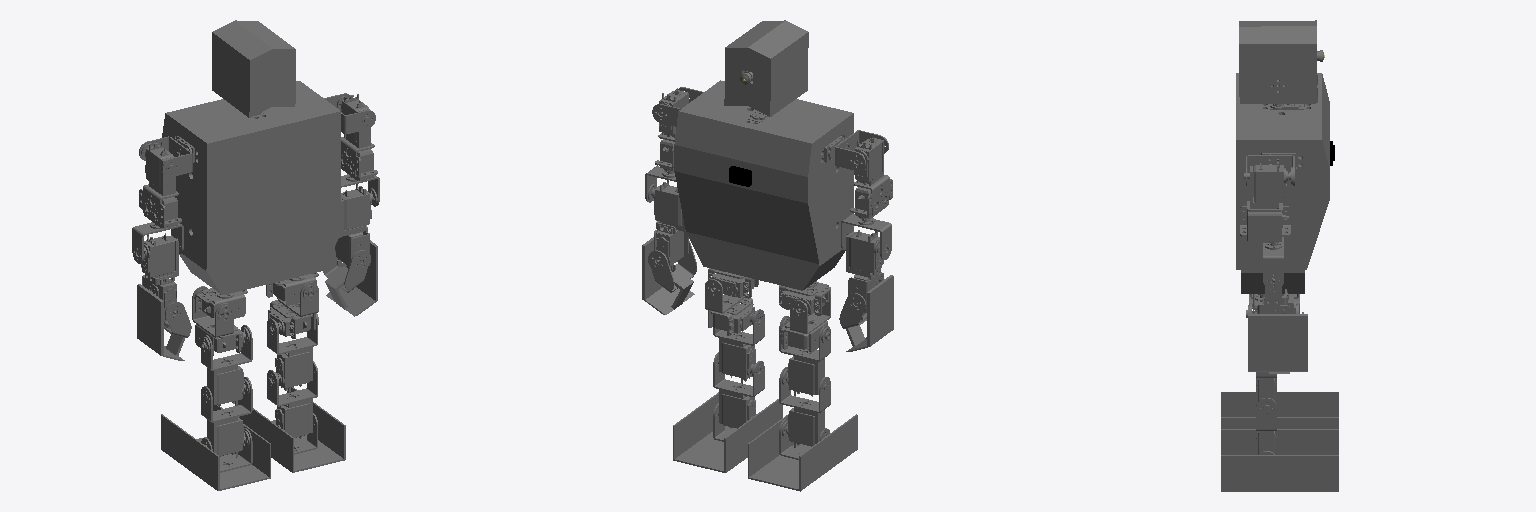
--- Render facts (derived) ---
Views: 3 orthographic renders of the robot side by side, from view 1: azimuth 30°, elevation 25°; view 2: azimuth 150°, elevation 25°; view 3: azimuth 270°, elevation 25°.
Model rmis with 50 links and 49 joints (22 revolute, 27 fixed), rooted at root, posed all joints at 0.
Visible links, largest first — view 1: base_link, head_outer_link, lower_body_link, l_lower_arm_link, l_feet_link, r_lower_arm_link, r_feet_link, l_lower_shoulder_link, r_lower_shoulder_link, r_hand_link, l_lower_leg_inner_link, r_lower_leg_inner_link (+17 smaller); view 2: base_link, head_outer_link, l_feet_link, r_feet_link, lower_body_link, l_lower_arm_link, r_lower_arm_link, l_lower_shoulder_link, r_hand_link, l_lower_leg_inner_link, l_upper_ankle_link, r_lower_leg_inner_link (+16 smaller); view 3: base_link, r_feet_link, head_outer_link, r_lower_arm_link, l_feet_link, r_lower_shoulder_link, lower_body_link, r_upper_arm_link, r_lower_leg_outer_link, r_upper_shoulder_link.
Link boxes in pixels (x1,y1,x2,y2): base_link: (162, 81, 340, 269); head_outer_link: (212, 20, 295, 117); lower_body_link: (179, 238, 338, 298); l_lower_arm_link: (137, 233, 184, 360); l_feet_link: (161, 405, 270, 490); r_lower_arm_link: (326, 184, 377, 316); r_feet_link: (235, 387, 345, 472); l_lower_shoulder_link: (139, 142, 181, 228); r_lower_shoulder_link: (337, 94, 377, 181); r_hand_link: (322, 250, 370, 309); l_lower_leg_inner_link: (204, 362, 249, 406); r_lower_leg_inner_link: (272, 345, 312, 392); base_link: (674, 80, 853, 263); head_outer_link: (724, 20, 808, 116); l_feet_link: (748, 414, 857, 491); r_feet_link: (673, 392, 782, 472); lower_body_link: (687, 232, 845, 290); l_lower_arm_link: (846, 230, 893, 351); r_lower_arm_link: (642, 180, 694, 314); l_lower_shoulder_link: (850, 136, 892, 224); r_hand_link: (648, 241, 696, 309); l_lower_leg_inner_link: (782, 352, 827, 396); l_upper_ankle_link: (782, 404, 825, 447); r_lower_leg_inner_link: (718, 336, 759, 383); base_link: (1236, 73, 1329, 269); r_feet_link: (1221, 429, 1338, 491); head_outer_link: (1239, 20, 1323, 103); r_lower_arm_link: (1248, 274, 1307, 371); l_feet_link: (1221, 392, 1338, 428); r_lower_shoulder_link: (1240, 159, 1292, 249); lower_body_link: (1241, 270, 1304, 301); r_upper_arm_link: (1263, 237, 1283, 289); r_lower_leg_outer_link: (1256, 382, 1276, 430); r_upper_shoulder_link: (1246, 155, 1294, 186).
Size in the robot's own frame: 3.24 by 1.35 by 5.47 metres.
Meshes: 34 distinct files referenced, 34 mesh visuals loaded (34 binary STL).

The robot description file, URDF, robot "rmis":
<?xml version="1.0"?>
<robot name="rmis" version="1.0">

  <!-- Material Definitions -->
  
  <!-- Dummy Link for KDL Parser -->
  <link name="root"/>
  
  <!-- Fixed Joint to Connect World to Base Link -->
  <joint name="root_to_base_joint" type="fixed">
    <parent link="root"/>
    <child link="base_link"/>
    <origin rpy="0.00000 0.00000 -0.00000" xyz="-0.15389 -0.00000 -0.00001"/>
    <dynamics damping="1.00000" friction="0.1"/>
  </joint>

  
  <!-- Sensors Section -->
  
  	<!-- Lidar -->
  <joint name="lidar_link_joint" type="fixed">
    <origin xyz="0.15210 0.54325 0.16884" rpy="0.0 0.0 0.0"/>
    <parent link="base_link"/>
    <child link="lidar_link"/>
  </joint>
  <link name="lidar_link">
    <inertial>
      <origin xyz="-1.54987 0.01466 -0.04121" rpy="0.0 0.0 0.0"/>
      <mass value="0.05000"/>
      <inertia ixx="0.05768" ixy="0.00012" ixz="-0.00062" iyy="0.02857" iyz="0.00006" izz="0.05022"/>
    </inertial>
    <visual name="lidar">
      <origin xyz="-0.15388 0.0 -0.00000" rpy="0.0 0.0 0.0"/>
      <geometry>
        <mesh filename="package://rmis/meshes/stl/TF_Luna.stl" scale="0.1 0.1 0.1"/>
      </geometry>
      <material name="black">
        <color rgba="0.0 0.0 0.0 1.0"/>
      </material>
    </visual>
    <collision name="lidar_collision">
      <origin xyz="-0.15388 0.0 -0.00001" rpy="0.0 0.0 0.0"/>
      <geometry>
        <mesh filename="package://rmis/meshes/stl/TF_Luna.stl" scale="0.1 0.1 0.1"/>
      </geometry>
    </collision>
  </link>
  <gazebo reference="lidar_link">
    <material>Gazebo/Black</material>
    <sensor name="tf_luna" type="ray">
      <pose>0.0 0.0 0.0 0.0 0.0 0.0</pose>
      <visualize>true</visualize>
      <update_rate>10</update_rate>
      <ray>
        <scan>
          <horizontal>
            <samples>100</samples>
            <resolution>0.01047</resolution>
            <min_angle>-0.52360</min_angle>
            <max_angle>0.52360</max_angle>
          </horizontal>
        </scan>
        <range>
          <min>0.2</min>
          <max>8.0</max>
          <resolution>0.01</resolution>
        </range>
      </ray>
      <plugin name="lidar_plugin" filename="libgazebo_ros_ray_sensor.so">
        <ros>
          <namespace>/rmis</namespace>
          <remapping>~/out:=lidar_scan</remapping>
        </ros>
        <frame_name>lidar_link</frame_name>
      </plugin>
    </sensor>
  </gazebo>

  	<!-- IMU -->
  <joint name="imu_link_joint" type="fixed">
    <origin xyz="0.21039 -0.34355 -1.01118" rpy="0.0 0.0 1.57080"/>
    <parent link="base_link"/>
    <child link="imu_link"/>
  </joint>
  <link name="imu_link">
    <inertial>
      <origin xyz="0.0 2.30103 0.0" rpy="0.0 0.0 0.0"/>
      <mass value="0.05000"/>
      <inertia ixx="0.03333" ixy="0.0" ixz="0.0" iyy="0.01817" iyz="0.0" izz="0.01817"/>
    </inertial>
    <visual name="imu">
      <origin xyz="0.0 0.23010 0.0" rpy="0.0 0.0 0.0"/>
      <geometry>
        <box size="0.06 0.2 0.2"/>
      </geometry>
      <material name="blue">
        <color rgba="0.0 0.0 1.0 1.0"/>
      </material>
    </visual>
    <collision name="imu_collision">
      <origin xyz="0.0 0.23010 0.0" rpy="0.0 0.0 0.0"/>
      <geometry>
        <box size="0.06 0.2 0.2"/>
      </geometry>
    </collision>
  </link>
	<gazebo reference="imu_link">
	  <sensor type="imu" name="imu_sensor">
	    <plugin name="imu_plugin" filename="libgazebo_ros_imu.so">
	      <ros>
		<namespace>/rmis</namespace>
		<remapping>imu:=imu/data</remapping>
	      </ros>
	    </plugin>
	  </sensor>
	</gazebo>
  
	<!-- Camera -->  
    <joint name="camera_link_joint" type="fixed">
    <origin xyz="-0.00027 0.51877 -0.01898" rpy="0.0 0.0 1.57080"/>
    <parent link="head_outer_link"/>
    <child link="camera_link"/>
  </joint>
  <link name="camera_link">
    <inertial>
      <inertia ixx="0.00002" ixy="-0.00000" ixz="-0.00000" iyy="0.00002" iyz="-0.00000" izz="0.00002"/>
      <origin rpy="0.00000 0.00000 0.00000" xyz="-0.03334 0.00356 -0.00558"/>
      <mass value="0.05000"/>
    </inertial>
    <visual name="camera">
      <origin rpy="-0.00000 -0.00000 -0.00000" xyz="-0.00333 0.00036 -0.00055"/>
      <geometry>
        <sphere radius="0.03000"/>
      </geometry>
    </visual>
  </link>
  <gazebo reference="camera_link">
    <material>Gazebo/Black</material>
    <sensor name="rasp_cam" type="camera">
      <pose>0.02942 0.0 0.0 -0.0 1.57080 0.0</pose>
      <camera>
        <horizontal_fov>1.57080</horizontal_fov>
        <image>
          <width>3280</width>
          <height>2464</height>
          <format>R8G8B8</format>
        </image>
        <clip>
          <near>0.01</near>
          <far>100.0</far>
        </clip>
      </camera>
      <update_rate>30</update_rate>
      <visualize>true</visualize>
      <plugin name="camera_plugin" filename="libgazebo_ros_camera.so">
        <ros>
          <namespace>/rmis</namespace>
          <remapping>~/out:=camera/image_raw</remapping>
        </ros>
        <frame_name>camera_link</frame_name>
      </plugin>
    </sensor>
  </gazebo>
  
  <!-- Base Link -->
  <link name="base_link">
    <collision name="base_collision">
      <origin rpy="0.00000 0.00000 -0.00000" xyz="-0.15389 -0.00000 -0.00001"/>
      <geometry>
        <mesh filename="package://rmis/meshes/stl/base.stl" scale="0.10000 0.10000 0.10000"/>
      </geometry>
    </collision>
    <inertial>
      <inertia ixx="3.80664" ixy="0.00010" ixz="-0.11562" iyy="2.86595" iyz="0.00147" izz="1.72824"/>
      <origin rpy="0.00000 0.00000 0.00000" xyz="-0.00284 -0.01176 0.03521"/>
      <mass value="0.05000"/>
    </inertial>
    <visual name="base">
      <origin rpy="0.00000 0.00000 0.00000" xyz="-0.15389 -0.00000 -0.00001"/>
      <geometry>
        <mesh filename="package://rmis/meshes/stl/base.stl" scale="0.10000 0.10000 0.10000"/>
      </geometry>
      <material name="grey">
        <color rgba="0.5 0.5 0.5 1.0"/>
      </material>      
    </visual>
  </link>
  <gazebo reference="base_link">
    <material>Gazebo/Grey</material>
  </gazebo>
  
  	<!-- Up Upper Body Section -->
  <joint name="u_upper_body_link_joint" type="revolute">
    <origin xyz="-0.00039 -0.01857 0.85581" rpy="0.0 0.0 0.0"/>
    <parent link="base_link"/>
    <child link="u_upper_body_link"/>
    <axis xyz="0.0 0.0 1.0"/>
    <dynamics damping="0.50000" friction="0.1"/>
    <limit lower="-3.14" upper="3.14" effort="1.2" velocity="1.0"/>
  </joint>
  <link name="u_upper_body_link">
    <inertial>
      <inertia ixx="0.00080" ixy="0.00000" ixz="0.00000" iyy="0.00080" iyz="0.00000" izz="0.00080"/>
      <origin rpy="0.00000 0.00000 0.00000" xyz="-0.00154 -0.01747 0.00000"/>
      <mass value="0.05000"/>
    </inertial>
    <visual name="u_upper_body">
      <origin rpy="0.00000 0.00000 1.57080" xyz="-0.00015 -0.00175 0.00000"/>
      <geometry>
        <sphere radius="0.02000"/>
      </geometry>
      <material name="grey">
        <color rgba="0.5 0.5 0.5 1.0"/>
      </material>      
    </visual>
  </link>
  <gazebo reference="u_upper_body_link">
    <material>Gazebo/Grey</material>
  </gazebo>

  <joint name="neck_link_joint" type="fixed">
    <origin xyz="0.29394 -0.10231 0.17455" rpy="0.0 0.0 0.0"/>
    <parent link="u_upper_body_link"/>
    <child link="neck_link"/>
  </joint>
  <link name="neck_link">
    <collision name="neck_collision">
      <origin rpy="0.00000 0.00000 -0.00000" xyz="-0.29410 0.00000 -0.04091"/>
      <geometry>
        <mesh filename="package://rmis/meshes/stl/neck_joint.stl" scale="0.10000 0.10000 0.10000"/>
      </geometry>
    </collision>
    <inertial>
      <inertia ixx="0.10411" ixy="-0.00000" ixz="0.02435" iyy="0.11152" iyz="0.00000" izz="0.04042"/>
      <origin rpy="0.00000 0.00000 0.00000" xyz="-2.94095 0.00000 -0.40906"/>
      <mass value="0.05000"/>
    </inertial>
    <visual name="neck">
      <origin rpy="0.00000 0.00000 -0.00000" xyz="-0.29410 0.00000 -0.04091"/>
      <geometry>
        <mesh filename="package://rmis/meshes/stl/neck_joint.stl" scale="0.10000 0.10000 0.10000"/>
      </geometry>
      <material name="grey"/>
    </visual>
  </link>
  <gazebo reference="neck_link">
    <material>Gazebo/Grey</material>
  </gazebo>
  
    <joint name="head_inner_link_joint" type="revolute">
    <origin xyz="-0.53928 0.10308 0.14213" rpy="-1.57080 -1.57080 1.57080"/>
    <parent link="neck_link"/>
    <child link="head_inner_link"/>
    <axis xyz="0.0 0.0 1.0"/>
    <dynamics damping="0.50000" friction="0.1"/>
    <limit lower="-0.4" upper="0.4" effort="1.2" velocity="1.0"/>
  </joint>
  <link name="head_inner_link">
    <inertial>
      <inertia ixx="0.18266" ixy="0.01279" ixz="0.00147" iyy="0.09287" iyz="0.00504" izz="0.14329"/>
      <origin rpy="0.00000 0.00000 0.00000" xyz="0.86758 -0.32559 -2.66080"/>
      <mass value="0.05000"/>
    </inertial>
    <visual name="head_inner">
      <origin rpy="1.57080 1.57080 1.57080" xyz="0.10230 0.02942 -0.18450"/>
      <geometry>
        <mesh filename="package://rmis/meshes/stl/head_link.stl" scale="0.10000 0.10000 0.10000"/>
      </geometry>
      <material name="grey"/>
    </visual>
  </link>
  <gazebo reference="head_inner_link">
    <material>Gazebo/Grey</material>
  </gazebo>

  <joint name="head_outer_link_joint" type="fixed">
    <origin xyz="0.24166 -0.01105 -0.24237" rpy="1.57080 1.57080 1.57080"/>
    <parent link="head_inner_link"/>
    <child link="head_outer_link"/>
  </joint>
  <link name="head_outer_link">
    <collision name="head_outer_collision">
      <origin rpy="-0.00000 0.00000 -0.00000" xyz="0.00000 0.00000 -0.00000"/>
      <geometry>
        <mesh filename="package://rmis/meshes/stl/head_joint.stl" scale="0.10000 0.10000 0.10000"/>
      </geometry>
    </collision>
    <inertial>
      <inertia ixx="0.35611" ixy="0.08645" ixz="0.03018" iyy="1.36268" iyz="-0.00299" izz="1.33173"/>
      <origin rpy="0.00000 0.00000 0.00000" xyz="0.00015 0.13850 -0.00540"/>
      <mass value="0.05000"/>
    </inertial>
    <visual name="head_outer">
      <origin rpy="0.00000 0.00000 -0.00000" xyz="0.00000 0.00000 0.00000"/>
      <geometry>
        <mesh filename="package://rmis/meshes/stl/head_joint.stl" scale="0.10000 0.10000 0.10000"/>
      </geometry>
      <material name="grey"/>
    </visual>
  </link>
  <gazebo reference="head_outer_link">
    <material>Gazebo/Grey</material>
  </gazebo>
  
  	<!-- Right Upper Body -->
  <joint name="r_upper_body_link_joint" type="revolute">
    <origin xyz="1.02542 -0.10845 0.50152" rpy="0.0 1.57080 0.0"/>
    <parent link="base_link"/>
    <child link="r_upper_body_link"/>
    <axis xyz="0.0 0.0 1.0"/>
    <dynamics damping="0.50000" friction="0.1"/>
    <limit lower="-2.0" upper="2.0" effort="1.2" velocity="1.0"/>
  </joint>
  <link name="r_upper_body_link">
    <inertial>
      <inertia ixx="0.00080" ixy="-0.00000" ixz="-0.00000" iyy="0.00080" iyz="0.00000" izz="0.00080"/>
      <origin rpy="0.00000 0.00000 0.00000" xyz="0.00000 0.00000 -0.00001"/>
      <mass value="0.05000"/>
    </inertial>
    <visual name="r_upper_body">
      <origin rpy="-1.57080 -0.00000 1.57080" xyz="0.00000 0.00000 -0.00000"/>
      <geometry>
        <sphere radius="0.02000"/>
      </geometry>
      <material name="grey"/>
    </visual>
  </link>
  <gazebo reference="r_upper_body_link">
    <material>Gazebo/Grey</material>
  </gazebo>
  
    <joint name="r_upper_shoulder_link_joint" type="fixed">
      <origin xyz="-0.00313 0.00023 0.15034" rpy="-1.57080 -1.57080 1.57080"/>
      <parent link="r_upper_body_link"/>
      <child link="r_upper_shoulder_link"/>
    </joint>
  <link name="r_upper_shoulder_link">
    <collision name="r_upper_shoulder_collision">
      <origin rpy="0.00000 0.00000 -0.00000" xyz="-0.03319 -0.00117 0.00022"/>
      <geometry>
        <mesh filename="package://rmis/meshes/stl/r_shoulder_joint.stl" scale="0.10000 0.10000 0.10000"/>
      </geometry>
    </collision>
    <inertial>
      <inertia ixx="0.07973" ixy="0.00003" ixz="0.00000" iyy="0.18690" iyz="0.00000" izz="0.23547"/>
      <origin rpy="0.00000 0.00000 0.00000" xyz="-0.33190 -0.01173 0.00218"/>
      <mass value="0.05000"/>
    </inertial>
    <visual name="r_upper_shoulder">
      <origin rpy="0.00000 0.00000 0.00000" xyz="-0.03319 -0.00117 0.00022"/>
      <geometry>
        <mesh filename="package://rmis/meshes/stl/r_shoulder_joint.stl" scale="0.10000 0.10000 0.10000"/>
      </geometry>
      <material name="grey"/>
    </visual>
  </link>
    <gazebo reference="r_upper_shoulder_link">
      <material>Gazebo/Grey</material>
    </gazebo>

  <joint name="r_lower_shoulder_upper_link_joint" type="revolute">
    <dynamics damping="0.50000"/>
    <limit lower="-1.57000" upper="0.00000" effort="1.20000" velocity="1.00000"/>
    <origin rpy="-1.57080 0.00000 0.00000" xyz="0.14724 0.25015 -0.00175"/>
    <parent link="r_upper_shoulder_link"/>
    <child link="r_lower_shoulder_upper_link"/>
    <axis xyz="0.00000 0.00000 1.00000"/>
  </joint>
  <link name="r_lower_shoulder_upper_link">
    <inertial>
      <inertia ixx="0.00080" ixy="-0.00000" ixz="-0.00000" iyy="0.00080" iyz="-0.00000" izz="0.00080"/>
      <origin rpy="0.00000 0.00000 0.00000" xyz="0.00000 -0.00000 0.00000"/>
      <mass value="0.05000"/>
    </inertial>
    <visual name="r_lower_shoulder_upper">
      <origin rpy="1.33478 -1.57080 0.23602" xyz="0.00000 -0.00000 0.00000"/>
      <geometry>
        <sphere radius="0.02000"/>
      </geometry>
      <material name="grey"/>
    </visual>
  </link>
    <gazebo reference="r_lower_shoulder_upper_link">
      <material>Gazebo/Grey</material>
    </gazebo>

    <joint name="r_lower_shoulder_link_joint" type="fixed">
      <origin rpy="1.57080 0.00000 0.00000" xyz="0.01117 0.47331 -0.27353"/>
      <parent link="r_lower_shoulder_upper_link"/>
      <child link="r_lower_shoulder_link"/>
    </joint>
  <link name="r_lower_shoulder_link">
    <collision name="r_lower_shoulder_collision">
      <origin rpy="-0.00000 -0.00000 -0.00000" xyz="-0.00000 -0.00000 0.12556"/>
      <geometry>
        <mesh filename="package://rmis/meshes/stl/r_shoulder_link.stl" scale="0.10000 0.10000 0.10000"/>
      </geometry>
    </collision>
    <inertial>
      <inertia ixx="0.39984" ixy="-0.00420" ixz="-0.00292" iyy="0.46703" iyz="0.02155" izz="0.10487"/>
      <origin rpy="0.00000 0.00000 0.00000" xyz="-0.24446 -0.09093 0.87699"/>
      <mass value="0.05000"/>
    </inertial>
    <visual name="r_lower_shoulder">
      <origin rpy="-0.00000 0.00000 0.00000" xyz="-0.00000 0.00000 0.12556"/>
      <geometry>
        <mesh filename="package://rmis/meshes/stl/r_shoulder_link.stl" scale="0.10000 0.10000 0.10000"/>
      </geometry>
      <material name="grey"/>
    </visual>
  </link>
    <gazebo reference="r_lower_shoulder_link">
      <material>Gazebo/Grey</material>
    </gazebo>

  <joint name="r_lower_shoulder_lower_link_joint" type="revolute">
    <dynamics damping="0.50000"/>
    <limit lower="-1.57000" upper="1.57000" effort="1.20000" velocity="1.00000"/>
    <origin rpy="-3.14159 -0.00000 3.14159" xyz="-0.00476 0.06341 -0.39192"/>
    <parent link="r_lower_shoulder_link"/>
    <child link="r_lower_shoulder_lower_link"/>
    <axis xyz="0.00000 0.00000 1.00000"/>
  </joint>
  <link name="r_lower_shoulder_lower_link">
    <inertial>
      <inertia ixx="0.00080" ixy="0.00000" ixz="0.00000" iyy="0.00080" iyz="-0.00000" izz="0.00080"/>
      <origin rpy="0.00000 0.00000 0.00000" xyz="0.00000 0.00000 -0.00000"/>
      <mass value="0.05000"/>
    </inertial>
    <visual name="r_lower_shoulder_lower">
      <origin rpy="3.14159 0.00000 1.57080" xyz="-0.00000 -0.00000 -0.00000"/>
      <geometry>
        <sphere radius="0.02000"/>
      </geometry>
      <material name="grey"/>
    </visual>
  </link>
    <gazebo reference="r_lower_shoulder_lower_link">
      <material>Gazebo/Grey</material>
    </gazebo>

  <joint name="r_upper_arm_link_joint" type="fixed">
    <origin rpy="-3.14159 0.00000 3.14159" xyz="0.15365 -0.04003 0.13018"/>
    <parent link="r_lower_shoulder_lower_link"/>
    <child link="r_upper_arm_link"/>
  </joint>
  <link name="r_upper_arm_link">
    <collision name="r_upper_arm_collision">
      <origin rpy="0.00000 -0.00000 -0.00000" xyz="0.15373 0.03945 -0.00418"/>
      <geometry>
        <mesh filename="package://rmis/meshes/stl/r_arm_joint.stl" scale="0.10000 0.10000 0.10000"/>
      </geometry>
    </collision>
    <inertial>
      <inertia ixx="0.23547" ixy="-0.00000" ixz="-0.00000" iyy="0.07973" iyz="0.00003" izz="0.18690"/>
      <origin rpy="0.00000 0.00000 0.00000" xyz="1.53731 0.39454 -0.04178"/>
      <mass value="0.05000"/>
    </inertial>
    <visual name="r_upper_arm">
      <origin rpy="0.00000 -0.00000 -0.00000" xyz="0.15373 0.03945 -0.00418"/>
      <geometry>
        <mesh filename="package://rmis/meshes/stl/r_arm_joint.stl" scale="0.10000 0.10000 0.10000"/>
      </geometry>
      <material name="grey"/>
    </visual>
  </link>
    <gazebo reference="r_upper_arm_link">
      <material>Gazebo/Grey</material>
    </gazebo>

    <joint name="r_lower_arm_upper_link_joint" type="revolute">
      <origin rpy="0.00000 1.57080 0.00000" xyz="0.42891 0.03944 -0.18506"/>
    <parent link="r_upper_arm_link"/>
    <child link="r_lower_arm_upper_link"/>
      <axis xyz="0.0 0.0 1.0"/>
      <dynamics damping="0.50000" friction="0.1"/>
      <limit lower="-1.57" upper="1.57" effort="1.2" velocity="1.0"/>
    </joint>
  <link name="r_lower_arm_upper_link">
    <inertial>
      <inertia ixx="0.00080" ixy="0.00000" ixz="-0.00000" iyy="0.00080" iyz="-0.00000" izz="0.00080"/>
      <origin rpy="0.00000 0.00000 0.00000" xyz="-0.00000 0.00000 -0.00001"/>
      <mass value="0.05000"/>
    </inertial>
    <visual name="r_lower_arm_upper">
      <origin rpy="-1.57080 0.00000 1.57080" xyz="-0.00000 0.00000 -0.00000"/>
      <geometry>
        <sphere radius="0.02000"/>
      </geometry>
      <material name="grey"/>
    </visual>
  </link>
    <gazebo reference="r_lower_arm_upper_link">
      <material>Gazebo/Grey</material>
    </gazebo>
    
    <joint name="r_lower_arm_link_joint" type="fixed">
      <origin rpy="-1.57080 -1.57080 1.57080" xyz="0.57212 0.03274 -0.28788"/>
      <parent link="r_lower_arm_upper_link"/>
      <child link="r_lower_arm_link"/>
    </joint>
  <link name="r_lower_arm_link">
    <collision name="r_lower_arm_collision">
      <origin rpy="-0.00000 0.00000 -0.00000" xyz="0.04329 0.00000 0.00000"/>
      <geometry>
        <mesh filename="package://rmis/meshes/stl/r_arm_link.stl" scale="0.10000 0.10000 0.10000"/>
      </geometry>
    </collision>
    <inertial>
      <inertia ixx="1.02059" ixy="0.01519" ixz="-0.00666" iyy="1.05629" iyz="0.04688" izz="0.16236"/>
      <origin rpy="0.00000 0.00000 0.00000" xyz="0.43294 0.00008 -0.00044"/>
      <mass value="0.05000"/>
    </inertial>
    <visual name="r_lower_arm">
      <origin rpy="-0.00000 0.00000 -0.00000" xyz="0.04329 0.00000 0.00000"/>
      <geometry>
        <mesh filename="package://rmis/meshes/stl/r_arm_link.stl" scale="0.10000 0.10000 0.10000"/>
      </geometry>
      <material name="grey"/>
    </visual>
  </link>
    <gazebo reference="r_lower_arm_link">
      <material>Gazebo/Grey</material>
    </gazebo>    

    <joint name="r_lower_arm_lower_link_joint" type="revolute">
      <origin rpy="-1.57080 -0.00000 0.00000" xyz="-0.00892 0.31225 -0.11501"/>
      <parent link="r_lower_arm_link"/>
      <child link="r_lower_arm_lower_link"/>
      <axis xyz="0.0 0.0 1.0"/>
      <dynamics damping="0.50000" friction="0.1"/>
      <limit lower="0.00000" upper="0.65000" effort="1.20000" velocity="1.00000"/> 
    </joint>
  <link name="r_lower_arm_lower_link">
    <inertial>
      <inertia ixx="0.00080" ixy="0.00000" ixz="0.00000" iyy="0.00080" iyz="0.00000" izz="0.00080"/>
      <origin rpy="0.00000 0.00000 0.00000" xyz="0.00002 -0.00003 -0.00000"/>
      <mass value="0.05000"/>
    </inertial>
    <visual name="r_lower_arm_lower">
      <origin rpy="-1.24662 -1.57080 2.81742" xyz="0.00000 -0.00000 -0.00000"/>
      <geometry>
        <sphere radius="0.02000"/>
      </geometry>
      <material name="grey"/>
    </visual>
  </link>
    <gazebo reference="r_lower_arm_lower_link">
      <material>Gazebo/Grey</material>
    </gazebo>

    <joint name="r_hand_link_joint" type="fixed">
      <origin rpy="1.57080 -0.00000 -0.00000" xyz="-0.09662 0.29431 -0.27653"/>
      <parent link="r_lower_arm_lower_link"/>
      <child link="r_hand_link"/>
    </joint>
  <link name="r_hand_link">
    <collision name="r_hand_collision">
      <origin rpy="0.00000 -0.00000 -0.00000" xyz="0.00010 -0.00004 0.00060"/>
      <geometry>
        <mesh filename="package://rmis/meshes/stl/r_hand_joint.stl" scale="0.10000 0.10000 0.10000"/>
      </geometry>
    </collision>
    <inertial>
      <inertia ixx="0.21883" ixy="-0.00005" ixz="0.00033" iyy="0.31074" iyz="0.05939" izz="0.16883"/>
      <origin rpy="0.00000 0.00000 0.00000" xyz="0.00003 0.00000 -0.00000"/>
      <mass value="0.05000"/>
    </inertial>
    <visual name="r_hand">
      <origin rpy="-0.00000 -0.00000 0.00000" xyz="0.00000 0.00000 -0.00001"/>
      <geometry>
        <mesh filename="package://rmis/meshes/stl/r_hand_joint.stl" scale="0.10000 0.10000 0.10000"/>
      </geometry>
      <material name="grey"/>
    </visual>
  </link>
    <gazebo reference="r_hand_link">
      <material>Gazebo/Grey</material>
    </gazebo>
   
  	<!-- Left Upper Body -->
  <joint name="l_upper_body_link_joint" type="revolute">
    <origin rpy="0.00000 -1.57080 0.00000" xyz="-1.02542 -0.10845 0.50152"/>
    <parent link="base_link"/>
    <child link="l_upper_body_link"/>
    <axis xyz="0.0 0.0 1.0"/>
    <dynamics damping="0.50000" friction="0.1"/>
    <limit lower="-2.0" upper="2.0" effort="1.2" velocity="1.0"/>
  </joint>
  <link name="l_upper_body_link">
    <inertial>
      <inertia ixx="0.00080" ixy="0.00000" ixz="-0.00000" iyy="0.00080" iyz="-0.00000" izz="0.00080"/>
      <origin rpy="0.00000 0.00000 0.00000" xyz="0.00000 0.00000 -0.00000"/>
      <mass value="0.05000"/>
    </inertial>
    <visual name="l_upper_body">
      <origin rpy="1.57080 0.00000 1.57080" xyz="-0.00000 0.00000 -0.00000"/>
      <geometry>
        <sphere radius="0.02000"/>
      </geometry>
      <material name="grey"/>
    </visual>
  </link>
  <gazebo reference="l_upper_body_link">
    <material>Gazebo/Grey</material>
  </gazebo>

    <joint name="l_upper_shoulder_link_joint" type="fixed">
      <origin rpy="1.64773 1.57080 1.64773" xyz="0.00314 0.00023 0.15035"/>
      <parent link="l_upper_body_link"/>
      <child link="l_upper_shoulder_link"/>
    </joint>
  <link name="l_upper_shoulder_link">
    <collision name="l_upper_shoulder_collision">
      <origin rpy="-0.00000 -0.00000 -0.00000" xyz="0.02125 -0.00108 -0.00165"/>
      <geometry>
        <mesh filename="package://rmis/meshes/stl/l_shoulder_joint.stl" scale="0.10000 0.10000 0.10000"/>
      </geometry>
    </collision>
    <inertial>
      <inertia ixx="0.07973" ixy="0.00003" ixz="0.00000" iyy="0.18690" iyz="-0.00000" izz="0.23547"/>
      <origin rpy="0.00000 0.00000 0.00000" xyz="0.21242 -0.01084 -0.01650"/>
      <mass value="0.05000"/>
    </inertial>
    <visual name="l_upper_shoulder">
      <origin rpy="-0.00000 0.00000 0.00000" xyz="0.02124 -0.00108 -0.00165"/>
      <geometry>
        <mesh filename="package://rmis/meshes/stl/l_shoulder_joint.stl" scale="0.10000 0.10000 0.10000"/>
      </geometry>
      <material name="grey"/>
    </visual>
  </link>
    <gazebo reference="l_upper_shoulder_link">
      <material>Gazebo/Grey</material>
    </gazebo>

    <joint name="l_lower_shoulder_upper_link_joint" type="revolute">
      <origin rpy="-1.57080 0.00000 -0.00000" xyz="-0.15786 0.25015 0.00000"/>
      <parent link="l_upper_shoulder_link"/>
      <child link="l_lower_shoulder_upper_link"/>
      <axis xyz="0.0 0.0 1.0"/>
      <dynamics damping="0.50000" friction="0.1"/>
      <limit lower="0.0" upper="1.57" effort="1.2" velocity="1.0"/>
    </joint>
  <link name="l_lower_shoulder_upper_link">
    <inertial>
      <inertia ixx="0.00080" ixy="0.00000" ixz="-0.00000" iyy="0.00080" iyz="-0.00000" izz="0.00080"/>
      <origin rpy="0.00000 0.00000 0.00000" xyz="0.00004 -0.00008 -0.00000"/>
      <mass value="0.05000"/>
    </inertial>
    <visual name="l_lower_shoulder_upper">
      <origin rpy="1.20089 -1.57080 0.36990" xyz="0.00000 -0.00000 -0.00000"/>
      <geometry>
        <sphere radius="0.02000"/>
      </geometry>
      <material name="grey"/>
    </visual>
  </link>
    <gazebo reference="l_lower_shoulder_upper_link">
      <material>Gazebo/Grey</material>
    </gazebo>

    <joint name="l_lower_shoulder_link_joint" type="fixed">
      <origin rpy="1.57080 -0.00000 -0.00000" xyz="0.01024 0.62216 -0.27345"/>
      <parent link="l_lower_shoulder_upper_link"/>
      <child link="l_lower_shoulder_link"/>
    </joint>
  <link name="l_lower_shoulder_link">
    <collision name="l_lower_shoulder_collision">
      <origin rpy="-0.00000 0.00000 -0.00000" xyz="0.00000 -0.00000 0.27292"/>
      <geometry>
        <mesh filename="package://rmis/meshes/stl/l_shoulder_link.stl" scale="0.10000 0.10000 0.10000"/>
      </geometry>
    </collision>
    <inertial>
      <inertia ixx="0.39919" ixy="-0.00420" ixz="-0.00291" iyy="0.46649" iyz="0.02087" izz="0.10478"/>
      <origin rpy="0.00000 0.00000 0.00000" xyz="-0.24312 -0.09091 2.35092"/>
      <mass value="0.05000"/>
    </inertial>
    <visual name="l_lower_shoulder">
      <origin rpy="-0.00000 0.00000 0.00000" xyz="0.00000 -0.00000 0.27291"/>
      <geometry>
        <mesh filename="package://rmis/meshes/stl/l_shoulder_link.stl" scale="0.10000 0.10000 0.10000"/>
      </geometry>
      <material name="grey"/>
    </visual>
  </link>
    <gazebo reference="l_lower_shoulder_link">
      <material>Gazebo/Grey</material>
    </gazebo>

    <joint name="l_lower_shoulder_lower_link_joint" type="revolute">
      <limit lower="-1.57000" upper="1.57000" effort="1.20000" velocity="1.00000"/>
      <origin rpy="-3.14159 -0.00000 3.14159" xyz="-0.00763 0.06271 -0.24482"/>
      <parent link="l_lower_shoulder_link"/>
      <child link="l_lower_shoulder_lower_link"/>
      <axis xyz="0.00000 0.00000 1.00000"/>
      <dynamics damping="0.50000" friction="0.1"/>
    </joint>
  <link name="l_lower_shoulder_lower_link">
    <inertial>
      <inertia ixx="0.00080" ixy="0.00000" ixz="0.00000" iyy="0.00080" iyz="0.00000" izz="0.00080"/>
      <origin rpy="0.00000 0.00000 0.00000" xyz="-0.00000 -0.00000 0.00000"/>
      <mass value="0.05000"/>
    </inertial>
    <visual name="l_lower_shoulder_lower">
      <origin rpy="3.14159 0.00000 1.57080" xyz="-0.00000 -0.00000 -0.00000"/>
      <geometry>
        <sphere radius="0.02000"/>
      </geometry>
      <material name="grey"/>
    </visual>
  </link>
    <gazebo reference="l_lower_shoulder_lower_link">
      <material>Gazebo/Grey</material>
    </gazebo>

    <joint name="l_upper_arm_link_joint" type="fixed">
      <origin rpy="3.14159 0.00000 1.57080" xyz="-0.15525 0.00109 0.04879"/>
      <parent link="l_lower_shoulder_lower_link"/>
     <child link="l_upper_arm_link"/>
    </joint>
  <link name="l_upper_arm_link">
    <collision name="l_upper_arm_collision">
      <origin rpy="-0.00000 -0.00000 -1.57080" xyz="0.00047 0.15536 -0.08502"/>
      <geometry>
        <mesh filename="package://rmis/meshes/stl/l_arm_joint.stl" scale="0.10000 0.10000 0.10000"/>
      </geometry>
    </collision>
    <inertial>
      <inertia ixx="0.23547" ixy="0.00000" ixz="-0.00000" iyy="0.07973" iyz="-0.00003" izz="0.18690"/>
      <origin rpy="0.00000 0.00000 0.00000" xyz="0.00474 1.55361 -0.85025"/>
      <mass value="0.05000"/>
    </inertial>
    <visual name="l_upper_arm">
      <origin rpy="-0.00000 0.00000 -1.57080" xyz="0.00047 0.15536 -0.08502"/>
      <geometry>
        <mesh filename="package://rmis/meshes/stl/l_arm_joint.stl" scale="0.10000 0.10000 0.10000"/>
      </geometry>
      <material name="grey"/>
    </visual>
  </link>
    <gazebo reference="l_upper_arm_link">
      <material>Gazebo/Grey</material>
    </gazebo>

    <joint name="l_lower_arm_upper_link_joint" type="revolute">
      <origin rpy="-1.57080 -1.57080 0.00000" xyz="0.00000 0.40875 -0.26539"/>
      <parent link="l_upper_arm_link"/>
      <child link="l_lower_arm_upper_link"/>
      <axis xyz="0.0 0.0 1.0"/>
      <dynamics damping="0.50000" friction="0.1"/>
      <limit lower="-1.57" upper="1.57" effort="1.2" velocity="1.0"/>
    </joint>
  <link name="l_lower_arm_upper_link">
    <inertial>
      <inertia ixx="0.00080" ixy="-0.00000" ixz="-0.00000" iyy="0.00080" iyz="-0.00000" izz="0.00080"/>
      <origin rpy="0.00000 0.00000 0.00000" xyz="0.00000 -0.00000 -0.00005"/>
      <mass value="0.05000"/>
    </inertial>
    <visual name="l_lower_arm_upper">
      <origin rpy="1.57080 0.00000 1.57080" xyz="0.00000 -0.00000 -0.00000"/>
      <geometry>
        <sphere radius="0.02000"/>
      </geometry>
      <material name="grey"/>
    </visual>
  </link>
    <gazebo reference="l_lower_arm_upper_link">
      <material>Gazebo/Grey</material>
    </gazebo>
    
    <joint name="l_lower_arm_link_joint" type="fixed">
      <origin rpy="1.57080 1.57080 1.57080" xyz="-0.51082 -0.04756 -0.25313"/>
      <parent link="l_lower_arm_upper_link"/>
      <child link="l_lower_arm_link"/>
    </joint>
  <link name="l_lower_arm_link">
    <collision name="l_lower_arm_collision">
      <origin rpy="-0.00000 -0.00000 0.00000" xyz="-0.02780 -0.00000 -0.03897"/>
      <geometry>
        <mesh filename="package://rmis/meshes/stl/l_arm_link.stl" scale="0.10000 0.10000 0.10000"/>
      </geometry>
    </collision>
    <inertial>
      <inertia ixx="0.94985" ixy="0.01403" ixz="-0.02205" iyy="0.96144" iyz="-0.03505" izz="0.14266"/>
      <origin rpy="0.00000 0.00000 0.00000" xyz="-0.27813 -0.00006 -0.39048"/>
      <mass value="0.05000"/>
    </inertial>
    <visual name="l_lower_arm">
      <origin rpy="-0.00000 0.00000 0.00000" xyz="-0.02780 0.00000 -0.03897"/>
      <geometry>
        <mesh filename="package://rmis/meshes/stl/l_arm_link.stl" scale="0.10000 0.10000 0.10000"/>
      </geometry>
      <material name="grey"/>
    </visual>
  </link>
    <gazebo reference="l_lower_arm_link">
      <material>Gazebo/Grey</material>
    </gazebo>    

    <joint name="l_lower_arm_lower_link_joint" type="revolute">
      <limit lower="0.00000" upper="0.65000" effort="1.20000" velocity="1.00000"/>
      <origin rpy="1.57080 -0.00000 0.00000" xyz="0.02708 -0.30471 -0.17737"/>
      <parent link="l_lower_arm_link"/>
      <child link="l_lower_arm_lower_link"/>
      <axis xyz="0.00000 0.00000 1.00000"/>
      <dynamics damping="0.50000" friction="0.1"/>
    </joint>
  <link name="l_lower_arm_lower_link">
    <inertial>
      <inertia ixx="0.00080" ixy="0.00000" ixz="-0.00000" iyy="0.00080" iyz="-0.00000" izz="0.00080"/>
      <origin rpy="0.00000 0.00000 0.00000" xyz="0.00005 0.00000 -0.00000"/>
      <mass value="0.05000"/>
    </inertial>
    <visual name="l_lower_arm_lower">
      <origin rpy="-1.20089 1.57080 0.36990" xyz="0.00000 -0.00000 -0.00000"/>
      <geometry>
        <sphere radius="0.02000"/>
      </geometry>
      <material name="grey"/>
    </visual>
  </link>
    <gazebo reference="l_lower_arm_lower_link">
      <material>Gazebo/Grey</material>
    </gazebo>

    <joint name="l_hand_link_joint" type="fixed">
      <origin rpy="-1.57080 0.00000 -0.00000" xyz="0.08578 -0.25941 -0.27318"/>
      <parent link="l_lower_arm_lower_link"/>
      <child link="l_hand_link"/>
    </joint>
  <link name="l_hand_link">
    <collision name="l_hand_collision">
      <origin rpy="0.00000 -0.00000 -0.00000" xyz="0.00000 -0.00000 -0.00000"/>
      <geometry>
        <mesh filename="package://rmis/meshes/stl/l_hand_joint.stl" scale="0.10000 0.10000 0.10000"/>
      </geometry>
    </collision>
    <inertial>
      <inertia ixx="0.21883" ixy="-0.00006" ixz="-0.00033" iyy="0.30895" iyz="-0.06146" izz="0.17061"/>
      <origin rpy="0.00000 0.00000 0.00000" xyz="0.14961 -0.00247 -0.33393"/>
      <mass value="0.05000"/>
    </inertial>
    <visual name="l_hand">
      <origin rpy="0.00000 -0.00000 0.00000" xyz="-0.00000 -0.00000 -0.00000"/>
      <geometry>
        <mesh filename="package://rmis/meshes/stl/l_hand_joint.stl" scale="0.10000 0.10000 0.10000"/>
      </geometry>
      <material name="grey"/>
    </visual>
  </link>
    <gazebo reference="l_hand_link">
      <material>Gazebo/Grey</material>
    </gazebo>  
  
  	<!-- Lower Body Section -->
  <joint name="lower_body_link_joint" type="fixed">
    <origin rpy="-0.00000 -0.00000 0.00000" xyz="-0.04942 -0.07242 -1.16532"/>
    <parent link="base_link"/>
    <child link="lower_body_link"/>
  </joint>
  <link name="lower_body_link">
    <collision name="lower_body_collision">
      <origin rpy="0.00000 0.00000 -0.00000" xyz="-0.07498 -0.00000 0.12347"/>
      <geometry>
        <mesh filename="package://rmis/meshes/stl/lower_body_link.stl" scale="0.10000 0.10000 0.10000"/>
      </geometry>
    </collision>
    <inertial>
      <inertia ixx="1.03498" ixy="-0.00427" ixz="-0.00418" iyy="0.30934" iyz="-0.00367" izz="1.06913"/>
      <origin rpy="0.00000 0.00000 0.00000" xyz="0.45951 -0.12902 0.92811"/>
      <mass value="0.05000"/>
    </inertial>
    <visual name="lower_body">
      <origin rpy="-0.00000 0.00000 -0.00000" xyz="-0.07498 0.00000 0.12347"/>
      <geometry>
        <mesh filename="package://rmis/meshes/stl/lower_body_link.stl" scale="0.10000 0.10000 0.10000"/>
      </geometry>
      <material name="grey"/>
    </visual>
  </link>
  <gazebo reference="lower_body_link">
    <material>Gazebo/Grey</material>
  </gazebo>  
  
  		<!-- Right Lower Body -->
  <joint name="r_lower_body_link_joint" type="revolute">
    <origin rpy="3.14159 -0.00000 3.14159" xyz="0.53339 -0.11124 -0.22114"/>
    <parent link="lower_body_link"/>
    <child link="r_lower_body_link"/>
    <axis xyz="0.0 0.0 1.0"/>
    <dynamics damping="0.50000" friction="0.1"/>
    <limit lower="-0.3" upper="0.3" effort="1.2" velocity="1.0"/>
  </joint>
  <link name="r_lower_body_link">
    <inertial>
      <inertia ixx="0.00080" ixy="-0.00000" ixz="-0.00000" iyy="0.00080" iyz="0.00000" izz="0.00080"/>
      <origin rpy="0.00000 0.00000 0.00000" xyz="0.00000 0.00000 0.00002"/>
      <mass value="0.05000"/>
    </inertial>
    <visual name="r_lower_body">
      <origin rpy="3.14159 0.00000 1.57080" xyz="0.00000 0.00000 0.00000"/>
      <geometry>
        <sphere radius="0.02000"/>
      </geometry>
      <material name="grey"/>
    </visual>
  </link>
  <gazebo reference="r_lower_body_link">
    <material>Gazebo/Grey</material>
  </gazebo>
  
    <joint name="r_upper_hip_link_joint" type="fixed">
    <origin rpy="3.14159 0.00000 3.14159" xyz="0.00270 0.13586 0.14958"/>
    <parent link="r_lower_body_link"/>
    <child link="r_upper_hip_link"/>
  </joint>
  <link name="r_upper_hip_link">
    <collision name="r_upper_hip_collision">
      <origin rpy="0.00000 0.00000 -0.00000" xyz="0.00000 -0.00000 -0.02804"/>
      <geometry>
        <mesh filename="package://rmis/meshes/stl/r_hip_link.stl" scale="0.10000 0.10000 0.10000"/>
      </geometry>
    </collision>
    <inertial>
      <inertia ixx="0.09294" ixy="0.00539" ixz="-0.01231" iyy="0.14374" iyz="-0.00179" izz="0.18306"/>
      <origin rpy="0.00000 0.00000 0.00000" xyz="0.07651 -0.22930 -0.09070"/>
      <mass value="0.05000"/>
    </inertial>
    <visual name="r_upper_hip">
      <origin rpy="0.00000 0.00000 0.00000" xyz="0.00000 -0.00000 -0.02805"/>
      <geometry>
        <mesh filename="package://rmis/meshes/stl/r_hip_link.stl" scale="0.10000 0.10000 0.10000"/>
      </geometry>
      <material name="grey"/>
    </visual>
  </link>
  <gazebo reference="r_upper_hip_link">
    <material>Gazebo/Grey</material>
  </gazebo>

  <joint name="r_lower_hip_link_joint" type="revolute">
    <limit lower="-0.65000" upper="0.00000" effort="1.20000" velocity="1.00000"/>
    <origin rpy="-1.57080 0.00000 -0.00000" xyz="0.09774 0.24708 -0.04110"/>
    <parent link="r_upper_hip_link"/>
    <child link="r_lower_hip_link"/>
    <axis xyz="0.0 0.0 1.0"/>
    <dynamics damping="0.50000" friction="0.1"/>
  </joint>
  <link name="r_lower_hip_link">
    <collision name="r_lower_hip_collision">
      <origin rpy="1.57080 0.00000 0.00000" xyz="-0.00049 0.16245 -0.28569"/>
      <geometry>
        <mesh filename="package://rmis/meshes/stl/r_hip_joint.stl" scale="0.10000 0.10000 0.10000"/>
      </geometry>
    </collision>
    <inertial>
      <inertia ixx="0.09070" ixy="-0.00001" ixz="0.03156" iyy="0.28217" iyz="0.00000" izz="0.22140"/>
      <origin rpy="0.00000 0.00000 0.00000" xyz="-0.00490 1.62450 -2.85692"/>
      <mass value="0.05000"/>
    </inertial>
    <visual name="r_lower_hip">
      <origin rpy="1.57080 -0.00000 0.00000" xyz="-0.00049 0.16245 -0.28569"/>
      <geometry>
        <mesh filename="package://rmis/meshes/stl/r_hip_joint.stl" scale="0.10000 0.10000 0.10000"/>
      </geometry>
      <material name="grey"/>
    </visual>
  </link>
  <gazebo reference="r_lower_hip_link">
    <material>Gazebo/Grey</material>
  </gazebo>
  
    <joint name="r_upper_leg_inner_link_joint" type="fixed">
      <origin rpy="1.57080 -0.00000 0.00000" xyz="-0.22671 0.44776 -0.24837"/>
      <parent link="r_lower_hip_link"/>
      <child link="r_upper_leg_inner_link"/>
    </joint>
  <link name="r_upper_leg_inner_link">
    <collision name="r_upper_leg_inner_collision">
      <origin rpy="-0.00000 0.00000 -0.00000" xyz="0.02992 0.00000 -0.03300"/>
      <geometry>
        <mesh filename="package://rmis/meshes/stl/r_upper_leg_link.stl" scale="0.10000 0.10000 0.10000"/>
      </geometry>
    </collision>
    <inertial>
      <inertia ixx="0.14329" ixy="0.00504" ixz="-0.00147" iyy="0.09287" iyz="-0.01279" izz="0.18266"/>
      <origin rpy="0.00000 0.00000 0.00000" xyz="1.11499 -0.15547 0.28985"/>
      <mass value="0.05000"/>
    </inertial>
    <visual name="r_upper_leg_inner">
      <origin rpy="-0.00000 0.00000 -0.00000" xyz="0.02992 -0.00000 -0.03300"/>
      <geometry>
        <mesh filename="package://rmis/meshes/stl/r_upper_leg_link.stl" scale="0.10000 0.10000 0.10000"/>
      </geometry>
      <material name="grey"/>
    </visual>
  </link>
    <gazebo reference="r_upper_leg_inner_link">
      <material>Gazebo/Grey</material>
    </gazebo>
    
<joint name="r_upper_leg_outer_link_joint" type="revolute">
    <origin rpy="-1.57079 -1.57080 1.57079" xyz="-0.15574 -0.10590 -0.00315"/>
    <parent link="r_upper_leg_inner_link"/>
    <child link="r_upper_leg_outer_link"/>
    <axis xyz="0.0 0.0 1.0"/>
    <dynamics damping="0.50000" friction="0.1"/>
    <limit lower="-1.57" upper="1.57" effort="1.2" velocity="1.0"/>
  </joint>
  <link name="r_upper_leg_outer_link">
    <collision name="r_upper_leg_outer_collision">
      <origin rpy="-1.57079 1.57080 -1.57080" xyz="-0.20411 0.00479 -0.21364"/>
      <geometry>
        <mesh filename="package://rmis/meshes/stl/r_upper_leg_joint.stl" scale="0.10000 0.10000 0.10000"/>
      </geometry>
    </collision>
    <inertial>
      <inertia ixx="0.28227" ixy="0.00029" ixz="-0.00019" iyy="0.09090" iyz="0.03170" izz="0.22130"/>
      <origin rpy="0.00000 0.00000 0.00000" xyz="-1.61459 0.05261 -2.83045"/>
      <mass value="0.05000"/>
    </inertial>
    <visual name="r_upper_leg_outer">
      <origin rpy="1.57080 1.57080 1.57080" xyz="-0.20411 0.00479 -0.21364"/>
      <geometry>
        <mesh filename="package://rmis/meshes/stl/r_upper_leg_joint.stl" scale="0.10000 0.10000 0.10000"/>
      </geometry>
      <material name="grey"/>
    </visual>
  </link>
  <gazebo reference="r_upper_leg_outer_link">
    <material>Gazebo/Grey</material>
  </gazebo>

  <joint name="r_lower_leg_inner_link_joint" type="fixed">
    <origin rpy="-1.57079 1.57080 -1.57080" xyz="-0.50982 0.00553 -0.28932"/>
    <parent link="r_upper_leg_outer_link"/>
    <child link="r_lower_leg_inner_link"/>
  </joint>
  <link name="r_lower_leg_inner_link">
    <collision name="r_lower_leg_inner_collision">
      <origin rpy="0.00000 -0.00000 -0.00000" xyz="-0.03171 -0.00166 -0.02979"/>
      <geometry>
        <mesh filename="package://rmis/meshes/stl/r_lower_leg_link.stl" scale="0.10000 0.10000 0.10000"/>
      </geometry>
    </collision>
    <inertial>
      <inertia ixx="0.36405" ixy="-0.00120" ixz="0.00013" iyy="0.09410" iyz="0.04544" izz="0.29049"/>
      <origin rpy="0.00000 0.00000 0.00000" xyz="-0.25026 -0.01220 -0.35379"/>
      <mass value="0.05000"/>
    </inertial>
    <visual name="r_lower_leg_inner">
      <origin rpy="-0.00000 0.00000 0.00000" xyz="-0.03165 -0.00166 -0.03008"/>
      <geometry>
        <mesh filename="package://rmis/meshes/stl/r_lower_leg_link.stl" scale="0.10000 0.10000 0.10000"/>
      </geometry>
      <material name="grey"/>
    </visual>
  </link>
  <gazebo reference="r_lower_leg_inner_link">
    <material>Gazebo/Grey</material>
  </gazebo>

  <joint name="r_lower_leg_outer_link_joint" type="revolute">
    <origin xyz="-0.28933 -0.00553 -0.15922" rpy="0.0 -1.57080 0.0"/>
    <parent link="r_lower_leg_inner_link"/>
    <child link="r_lower_leg_outer_link"/>
    <axis xyz="0.0 0.0 1.0"/>
    <dynamics damping="0.50000" friction="0.1"/>
    <limit lower="-1.57" upper="1.57" effort="1.2" velocity="1.0"/>
  </joint>
  <link name="r_lower_leg_outer_link">
    <collision name="r_lower_leg_outer_collision">
      <origin rpy="1.57080 1.57080 1.57080" xyz="-0.18126 0.00553 -0.25265"/>
      <geometry>
        <mesh filename="package://rmis/meshes/stl/r_lower_leg_joint.stl" scale="0.10000 0.10000 0.10000"/>
      </geometry>
    </collision>
    <inertial>
      <inertia ixx="0.23547" ixy="0.00000" ixz="-0.00000" iyy="0.07973" iyz="-0.00003" izz="0.18690"/>
      <origin rpy="0.00000 0.00000 0.00000" xyz="-1.81259 0.05530 -2.52645"/>
      <mass value="0.05000"/>
    </inertial>
    <visual name="r_lower_leg_outer">
      <origin rpy="1.57080 1.57080 1.57080" xyz="-0.18126 0.00553 -0.25265"/>
      <geometry>
        <mesh filename="package://rmis/meshes/stl/r_lower_leg_joint.stl" scale="0.10000 0.10000 0.10000"/>
      </geometry>
      <material name="grey"/>
    </visual>
  </link>
  <gazebo reference="r_lower_leg_outer_link">
    <material>Gazebo/Grey</material>
  </gazebo>

  <joint name="r_upper_ankle_link_joint" type="fixed">
    <origin xyz="-0.58812 0.00553 -0.28932" rpy="1.57080 1.57080 1.57080"/>
    <parent link="r_lower_leg_outer_link"/>
    <child link="r_upper_ankle_link"/>
  </joint>
  <link name="r_upper_ankle_link">
    <collision name="r_upper_ankle_collision">
      <origin rpy="0.00000 -0.00000 -0.00000" xyz="-0.03171 -0.00166 0.04755"/>
      <geometry>
        <mesh filename="package://rmis/meshes/stl/r_ankle_link.stl" scale="0.10000 0.10000 0.10000"/>
      </geometry>
    </collision>
    <inertial>
      <inertia ixx="0.36405" ixy="-0.00120" ixz="0.00013" iyy="0.09410" iyz="0.04544" izz="0.29049"/>
      <origin rpy="0.00000 0.00000 0.00000" xyz="-0.25087 -0.01220 0.42255"/>
      <mass value="0.05000"/>
    </inertial>
    <visual name="r_upper_ankle">
      <origin rpy="-0.00000 0.00000 0.00000" xyz="-0.03171 -0.00166 0.04755"/>
      <geometry>
        <mesh filename="package://rmis/meshes/stl/r_ankle_link.stl" scale="0.10000 0.10000 0.10000"/>
      </geometry>
      <material name="grey"/>
    </visual>
  </link>
  <gazebo reference="r_upper_ankle_link">
    <material>Gazebo/Grey</material>
  </gazebo>
  
  <joint name="r_lower_ankle_link_joint" type="revolute">
    <origin xyz="-0.28932 -0.00553 -0.08191" rpy="0.0 -1.57080 0.0"/>
    <parent link="r_upper_ankle_link"/>
    <child link="r_lower_ankle_link"/>
    <axis xyz="0.0 0.0 1.0"/>
    <dynamics damping="0.50000" friction="0.1"/>
    <limit lower="-0.65" upper="0.3" effort="1.2" velocity="1.0"/>
  </joint>
  <link name="r_lower_ankle_link">
    <collision name="r_lower_ankle_collision">
      <origin rpy="0.00000 1.57080 0.00000" xyz="-0.18122 0.00553 -0.25264"/>
      <geometry>
        <mesh filename="package://rmis/meshes/stl/r_ankle_joint.stl" scale="0.10000 0.10000 0.10000"/>
      </geometry>
    </collision>
    <inertial>
      <inertia ixx="0.23547" ixy="0.00000" ixz="-0.00000" iyy="0.07973" iyz="-0.00003" izz="0.18690"/>
      <origin rpy="0.00000 0.00000 0.00000" xyz="-1.81224 0.05529 -2.52645"/>
      <mass value="0.05000"/>
    </inertial>
    <visual name="r_lower_ankle">
      <origin rpy="1.44644 1.57080 1.44644" xyz="-0.18123 0.00553 -0.25265"/>
      <geometry>
        <mesh filename="package://rmis/meshes/stl/r_ankle_joint.stl" scale="0.10000 0.10000 0.10000"/>
      </geometry>
      <material name="grey"/>
    </visual>
  </link>
  <gazebo reference="r_lower_ankle_link">
    <material>Gazebo/Grey</material>
  </gazebo>
   
  <joint name="r_feet_link_joint" type="fixed">
    <origin xyz="-0.29184 0.16032 -0.38614" rpy="1.57080 1.57080 1.57080"/>
    <parent link="r_lower_ankle_link"/>
    <child link="r_feet_link"/>
  </joint>
  <link name="r_feet_link">
    <collision name="r_feet_collision">
      <origin rpy="0.00000 0.00000 -0.00000" xyz="-0.07451 0.00000 0.11245"/>
      <geometry>
        <mesh filename="package://rmis/meshes/stl/r_feet_link.stl" scale="0.10000 0.10000 0.10000"/>
      </geometry>
    </collision>
    <inertial>
      <inertia ixx="0.37179" ixy="-0.00718" ixz="-0.00237" iyy="0.56463" iyz="0.00152" izz="0.80038"/>
      <origin rpy="0.00000 0.00000 0.00000" xyz="-0.74506 -0.00000 1.06002"/>
      <mass value="0.05000"/>
    </inertial>
    <visual name="r_feet">
      <origin rpy="-0.00000 0.00000 0.00000" xyz="-0.07451 0.00000 0.11244"/>
      <geometry>
        <mesh filename="package://rmis/meshes/stl/r_feet_link.stl" scale="0.10000 0.10000 0.10000"/>
      </geometry>
      <material name="grey"/>
    </visual>
  </link>
  <gazebo reference="r_feet_link">
    <material>Gazebo/Grey</material>
  </gazebo>   
  
  		<!-- Left Lower Body -->
  <joint name="l_lower_body_link_joint" type="revolute">
    <origin xyz="-0.43474 -0.11124 -0.22114" rpy="3.14159 0.0 3.14159"/>
    <parent link="lower_body_link"/>
    <child link="l_lower_body_link"/>
    <axis xyz="0.0 0.0 1.0"/>
    <dynamics damping="0.50000" friction="0.1"/>
    <limit lower="-0.3" upper="0.3" effort="1.2" velocity="1.0"/>
  </joint>
  <link name="l_lower_body_link">
    <inertial>
      <inertia ixx="0.00080" ixy="0.00000" ixz="-0.00000" iyy="0.00080" iyz="-0.00000" izz="0.00080"/>
      <origin rpy="0.00000 0.00000 0.00000" xyz="0.00000 0.00000 0.00000"/>
      <mass value="0.05000"/>
    </inertial>
    <visual name="l_lower_body">
      <origin rpy="3.14159 0.00000 1.57080" xyz="0.00000 0.00000 0.00000"/>
      <geometry>
        <sphere radius="0.02000"/>
      </geometry>
      <material name="grey"/>
    </visual>
  </link>
  <gazebo reference="l_lower_body_link">
    <material>Gazebo/Grey</material>
  </gazebo>
  
  <joint name="l_upper_hip_link_joint" type="fixed">
    <origin xyz="-0.08125 0.19501 0.16258" rpy="-3.14159 0.0 3.14159"/>
    <parent link="l_lower_body_link"/>
    <child link="l_upper_hip_link"/>
  </joint>
  <link name="l_upper_hip_link">
    <collision name="l_upper_hip_collision">
      <origin rpy="-0.00000 -0.00000 -0.00000" xyz="-0.07415 0.00000 -0.05783"/>
      <geometry>
        <mesh filename="package://rmis/meshes/stl/l_hip_link.stl" scale="0.10000 0.10000 0.10000"/>
      </geometry>
    </collision>
    <inertial>
      <inertia ixx="0.09287" ixy="-0.00504" ixz="-0.01279" iyy="0.14329" iyz="0.00147" izz="0.18266"/>
      <origin rpy="0.00000 0.00000 0.00000" xyz="-0.89692 -0.81581 0.04150"/>
      <mass value="0.05000"/>
    </inertial>
    <visual name="l_upper_hip">
      <origin rpy="0.00000 0.00000 0.00000" xyz="-0.07415 0.00000 -0.05783"/>
      <geometry>
        <mesh filename="package://rmis/meshes/stl/l_hip_link.stl" scale="0.10000 0.10000 0.10000"/>
      </geometry>
      <material name="grey"/>
    </visual>
  </link>
  <gazebo reference="l_upper_hip_link">
    <material>Gazebo/Grey</material>
  </gazebo>

  <joint name="l_lower_hip_link_joint" type="revolute">
    <origin xyz="-0.17610 0.18793 -0.02809" rpy="-1.57080 0.0 0.0"/>
    <parent link="l_upper_hip_link"/>
    <child link="l_lower_hip_link"/>
    <axis xyz="0.0 0.0 1.0"/>
    <dynamics damping="0.50000" friction="0.1"/>
    <limit lower="0.0" upper="0.65" effort="1.2" velocity="1.0"/>
  </joint>
  <link name="l_lower_hip_link">
    <collision name="l_lower_hip_collision">
      <origin rpy="1.57080 0.00000 -0.00000" xyz="0.00102 0.20500 -0.21627"/>
      <geometry>
        <mesh filename="package://rmis/meshes/stl/l_hip_joint.stl" scale="0.10000 0.10000 0.10000"/>
      </geometry>
    </collision>
    <inertial>
      <inertia ixx="0.09091" ixy="0.00004" ixz="0.03172" iyy="0.28233" iyz="-0.00003" izz="0.22135"/>
      <origin rpy="0.00000 0.00000 0.00000" xyz="0.01024 2.04998 -2.16272"/>
      <mass value="0.05000"/>
    </inertial>
    <visual name="l_lower_hip">
      <origin rpy="1.57080 0.00000 -0.00000" xyz="0.00102 0.20500 -0.21627"/>
      <geometry>
        <mesh filename="package://rmis/meshes/stl/l_hip_joint.stl" scale="0.10000 0.10000 0.10000"/>
      </geometry>
      <material name="grey"/>
    </visual>
  </link>
  <gazebo reference="l_lower_hip_link">
    <material>Gazebo/Grey</material>
  </gazebo>

  <joint name="l_upper_leg_inner_link_joint" type="fixed">
    <origin xyz="0.23325 0.42698 -0.25846" rpy="1.57080 0.0 0.0"/>
    <parent link="l_lower_hip_link"/>
    <child link="l_upper_leg_inner_link"/>
  </joint>
  <link name="l_upper_leg_inner_link">
    <collision name="l_upper_leg_inner_collision">
      <origin rpy="-0.00000 -0.00000 -0.00000" xyz="-0.09287 0.00000 -0.01054"/>
      <geometry>
        <mesh filename="package://rmis/meshes/stl/l_upper_leg_link.stl" scale="0.10000 0.10000 0.10000"/>
      </geometry>
    </collision>
    <inertial>
      <inertia ixx="0.14374" ixy="-0.00539" ixz="-0.00179" iyy="0.09294" iyz="0.01231" izz="0.18306"/>
      <origin rpy="0.00000 0.00000 0.00000" xyz="-1.15800 -0.07651 0.08443"/>
      <mass value="0.05000"/>
    </inertial>
    <visual name="l_upper_leg_inner">
      <origin rpy="0.00000 0.00000 0.00000" xyz="-0.09287 0.00000 -0.01054"/>
      <geometry>
        <mesh filename="package://rmis/meshes/stl/l_upper_leg_link.stl" scale="0.10000 0.10000 0.10000"/>
      </geometry>
      <material name="grey"/>
    </visual>
  </link>
  <gazebo reference="l_upper_leg_inner_link">
    <material>Gazebo/Grey</material>
  </gazebo>

  <joint name="l_upper_leg_outer_link_joint" type="revolute">
    <origin xyz="0.14920 -0.09581 -0.02392" rpy="0.0 1.57080 0.0"/>
    <parent link="l_upper_leg_inner_link"/>
    <child link="l_upper_leg_outer_link"/>
    <axis xyz="0.0 0.0 1.0"/>
    <dynamics damping="0.50000" friction="0.1"/>
    <limit lower="-1.57" upper="1.57" effort="1.2" velocity="1.0"/>
  </joint>
  <link name="l_upper_leg_outer_link">
    <collision name="l_upper_leg_outer_collision">
      <origin rpy="-0.00000 -1.57080 0.00000" xyz="0.20410 0.00161 -0.21135"/>
      <geometry>
        <mesh filename="package://rmis/meshes/stl/l_upper_leg_joint.stl" scale="0.10000 0.10000 0.10000"/>
      </geometry>
    </collision>
    <inertial>
      <inertia ixx="0.28216" ixy="0.00029" ixz="0.00019" iyy="0.09091" iyz="-0.03166" izz="0.22118"/>
      <origin rpy="0.00000 0.00000 0.00000" xyz="1.61449 0.01137 -2.80674"/>
      <mass value="0.05000"/>
    </inertial>
    <visual name="l_upper_leg_outer">
      <origin rpy="-1.81578 -1.57080 1.81578" xyz="0.20410 0.00161 -0.21135"/>
      <geometry>
        <mesh filename="package://rmis/meshes/stl/l_upper_leg_joint.stl" scale="0.10000 0.10000 0.10000"/>
      </geometry>
      <material name="grey"/>
    </visual>
  </link>
  <gazebo reference="l_upper_leg_outer_link">
    <material>Gazebo/Grey</material>
  </gazebo>

  <joint name="l_lower_leg_inner_link_joint" type="fixed">
    <origin xyz="0.48106 -0.00032 -0.25524" rpy="-1.57080 -1.57080 1.57080"/>
    <parent link="l_upper_leg_outer_link"/>
    <child link="l_lower_leg_inner_link"/>
  </joint>
  <link name="l_lower_leg_inner_link">
    <collision name="l_lower_leg_inner_collision">
      <origin rpy="0.00000 -0.00000 0.00000" xyz="0.00000 -0.00000 -0.05855"/>
      <geometry>
        <mesh filename="package://rmis/meshes/stl/l_lower_leg_link.stl" scale="0.10000 0.10000 0.10000"/>
      </geometry>
    </collision>
    <inertial>
      <inertia ixx="0.36405" ixy="-0.00120" ixz="-0.00013" iyy="0.09410" iyz="-0.04544" izz="0.29049"/>
      <origin rpy="0.00000 0.00000 0.00000" xyz="-0.06622 -0.00438 -0.63853"/>
      <mass value="0.05000"/>
    </inertial>
    <visual name="l_lower_leg_inner">
      <origin rpy="-0.00000 0.00000 0.00000" xyz="0.00000 0.00000 -0.05855"/>
      <geometry>
        <mesh filename="package://rmis/meshes/stl/l_lower_leg_link.stl" scale="0.10000 0.10000 0.10000"/>
      </geometry>
      <material name="grey"/>
    </visual>
  </link>
  <gazebo reference="l_lower_leg_inner_link">
    <material>Gazebo/Grey</material>
  </gazebo>

  <joint name="l_lower_leg_outer_link_joint" type="revolute">
    <origin xyz="0.25524 0.00032 -0.18870" rpy="1.57080 1.57080 1.57080"/>
    <parent link="l_lower_leg_inner_link"/>
    <child link="l_lower_leg_outer_link"/>
    <axis xyz="0.0 0.0 1.0"/>
    <dynamics damping="0.50000" friction="0.1"/>
    <limit lower="-1.57" upper="1.57" effort="1.2" velocity="1.0"/>
  </joint>
  <link name="l_lower_leg_outer_link">
    <collision name="l_lower_leg_outer_collision">
      <origin rpy="1.57080 -1.57080 -1.57080" xyz="0.18053 0.00135 -0.25027"/>
      <geometry>
        <mesh filename="package://rmis/meshes/stl/l_lower_leg_joint.stl" scale="0.10000 0.10000 0.10000"/>
      </geometry>
    </collision>
    <inertial>
      <inertia ixx="0.23547" ixy="0.00000" ixz="0.00000" iyy="0.07973" iyz="0.00003" izz="0.18690"/>
      <origin rpy="0.00000 0.00000 0.00000" xyz="1.80531 0.01345 -2.50267"/>
      <mass value="0.05000"/>
    </inertial>
    <visual name="l_lower_leg_outer">
      <origin rpy="-1.57080 -1.57080 1.57080" xyz="0.18053 0.00135 -0.25027"/>
      <geometry>
        <mesh filename="package://rmis/meshes/stl/l_lower_leg_joint.stl" scale="0.10000 0.10000 0.10000"/>
      </geometry>
      <material name="grey"/>
    </visual>
  </link>
  <gazebo reference="l_lower_leg_outer_link">
    <material>Gazebo/Grey</material>
  </gazebo>

  <joint name="l_upper_ankle_link_joint" type="fixed">
    <origin xyz="0.49218 -0.00032 -0.25524" rpy="1.57079 -1.57080 -1.57080"/>
    <parent link="l_lower_leg_outer_link"/>
    <child link="l_upper_ankle_link"/>
  </joint>
  <link name="l_upper_ankle_link">
    <collision name="l_upper_ankle_collision">
      <origin rpy="-0.00000 -0.00000 -0.00000" xyz="0.00000 -0.00000 -0.04767"/>
      <geometry>
        <mesh filename="package://rmis/meshes/stl/l_ankle_link.stl" scale="0.10000 0.10000 0.10000"/>
      </geometry>
    </collision>
    <inertial>
      <inertia ixx="0.36405" ixy="-0.00120" ixz="-0.00013" iyy="0.09410" iyz="-0.04544" izz="0.29049"/>
      <origin rpy="0.00000 0.00000 0.00000" xyz="-0.06622 -0.00438 -0.52971"/>
      <mass value="0.05000"/>
    </inertial>
    <visual name="l_upper_ankle">
      <origin rpy="-0.00000 0.00000 -0.00000" xyz="0.00000 -0.00000 -0.04767"/>
      <geometry>
        <mesh filename="package://rmis/meshes/stl/l_ankle_link.stl" scale="0.10000 0.10000 0.10000"/>
      </geometry>
      <material name="grey"/>
    </visual>
  </link>
  <gazebo reference="l_upper_ankle_link">
    <material>Gazebo/Grey</material>
  </gazebo>

  <joint name="l_lower_ankle_link_joint" type="revolute">
    <origin xyz="0.25524 0.00032 -0.17729" rpy="0.0 1.57080 0.0"/>
    <parent link="l_upper_ankle_link"/>
    <child link="l_lower_ankle_link"/>
    <axis xyz="0.0 0.0 1.0"/>
    <dynamics damping="0.50000" friction="0.1"/>
    <limit lower="-0.3" upper="0.65" effort="1.2" velocity="1.0"/>
  </joint>
  <link name="l_lower_ankle_link">
    <collision name="l_lower_ankle_collision">
      <origin rpy="-0.00000 -1.57080 0.00000" xyz="0.18108 0.00135 -0.25027"/>
      <geometry>
        <mesh filename="package://rmis/meshes/stl/l_ankle_joint.stl" scale="0.10000 0.10000 0.10000"/>
      </geometry>
    </collision>
    <inertial>
      <inertia ixx="0.23547" ixy="0.00000" ixz="0.00000" iyy="0.07973" iyz="-0.00003" izz="0.18690"/>
      <origin rpy="0.00000 0.00000 0.00000" xyz="1.81079 0.01345 -2.50269"/>
      <mass value="0.05000"/>
    </inertial>
    <visual name="l_lower_ankle">
      <origin rpy="-1.32582 -1.57080 1.32582" xyz="0.18108 0.00135 -0.25027"/>
      <geometry>
        <mesh filename="package://rmis/meshes/stl/l_ankle_joint.stl" scale="0.10000 0.10000 0.10000"/>
      </geometry>
      <material name="grey"/>
    </visual>
  </link>
  <gazebo reference="l_lower_ankle_link">
    <material>Gazebo/Grey</material>
  </gazebo>

  <joint name="l_feet_link_joint" type="fixed">
    <origin xyz="0.29534 0.15614 -0.36302" rpy="-1.57080 -1.57080 1.57080"/>
    <parent link="l_lower_ankle_link"/>
    <child link="l_feet_link"/>
  </joint>
  <link name="l_feet_link">
    <collision name="l_feet_collision">
      <origin rpy="-0.00000 0.00000 -0.00000" xyz="0.05376 -0.00000 0.11108"/>
      <geometry>
        <mesh filename="package://rmis/meshes/stl/l_feet_link.stl" scale="0.10000 0.10000 0.10000"/>
      </geometry>
    </collision>
    <inertial>
      <inertia ixx="0.37179" ixy="-0.00718" ixz="-0.00237" iyy="0.56463" iyz="0.00152" izz="0.80037"/>
      <origin rpy="0.00000 0.00000 0.00000" xyz="0.53756 -0.00000 1.09638"/>
      <mass value="0.05000"/>
    </inertial>
    <visual name="l_feet">
      <origin rpy="-0.00000 0.00000 -0.00000" xyz="0.05376 -0.00000 0.11108"/>
      <geometry>
        <mesh filename="package://rmis/meshes/stl/l_feet_link.stl" scale="0.10000 0.10000 0.10000"/>
      </geometry>
      <material name="grey"/>
    </visual>
  </link>
  <gazebo reference="l_feet_link">
    <material>Gazebo/Grey</material>
  </gazebo>
  
  <gazebo>
  <plugin name="gazebo_ros2_control" filename="libgazebo_ros2_control.so">
    <robot_namespace>/rmis</robot_namespace>
    <control_plugins>
      <plugin name="joint_state_broadcaster" type="joint_state_broadcaster/JointStateBroadcaster"/>
    </control_plugins>
  </plugin>
</gazebo>
 
</robot>
